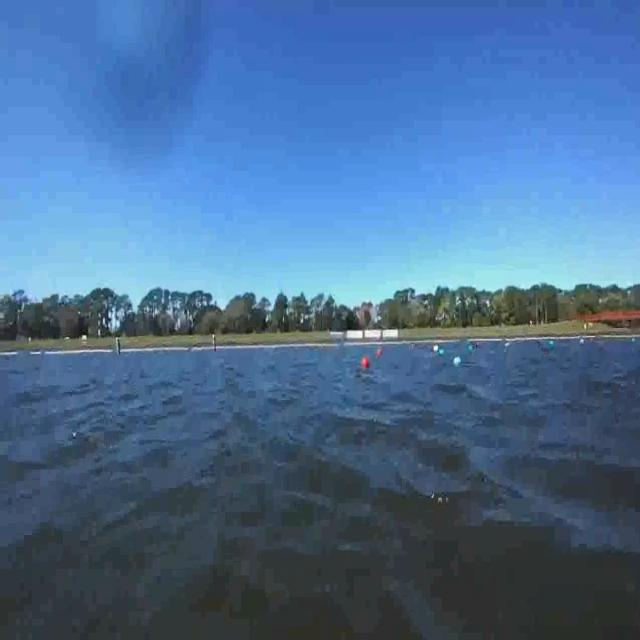green-buoy: (550, 342, 557, 352)
red-buoy: (362, 357, 369, 368)
